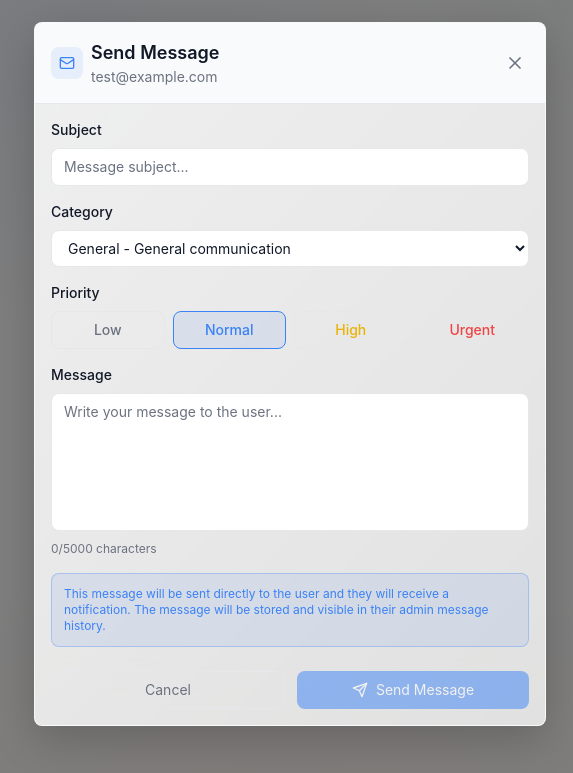
Test: SendAdminMessageModal › updates character count as user types message
The width and height of the screenshot is (573, 773).
Type "Hello there" into the text box with placeholder "Write your message to the user..." at (290, 462), box x1=51 y1=393 x2=529 y2=531
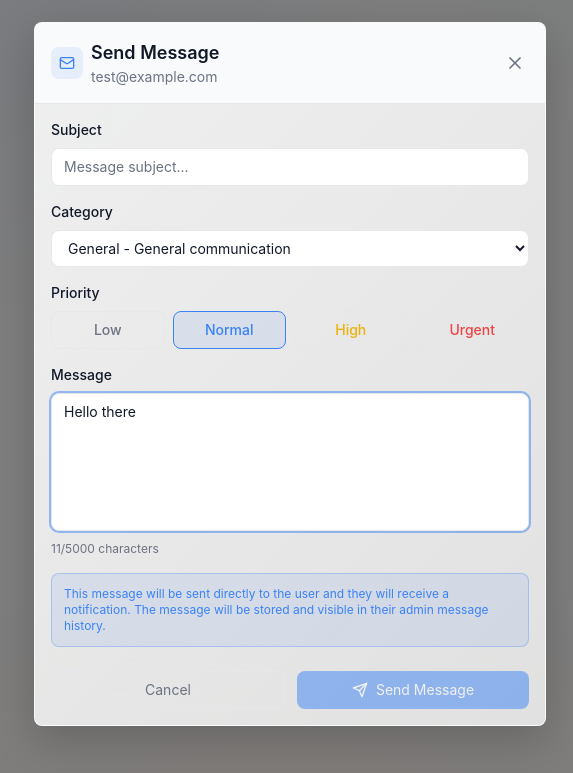
Expected: the text "11/5000 characters" is shown, x1=51 y1=541 x2=159 y2=556
